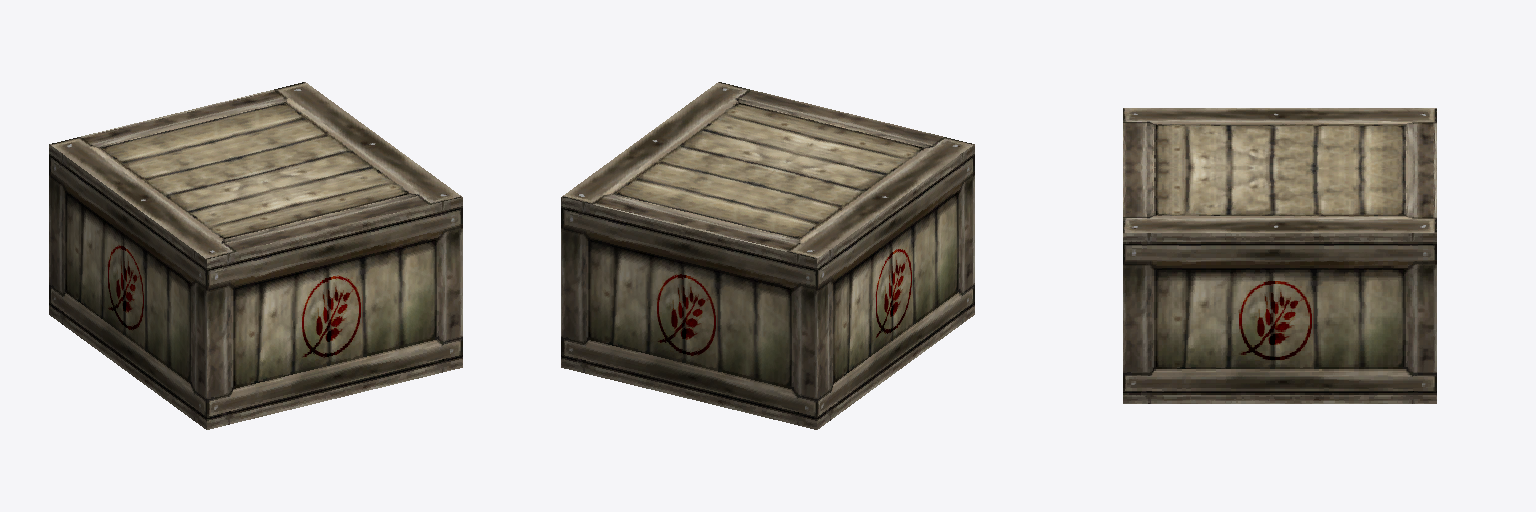
The picture shows the model from 3 angles: view 1: azimuth 30°, elevation 25°; view 2: azimuth 150°, elevation 25°; view 3: azimuth 270°, elevation 25°; orthographic projection.
Parts seen in each view (by area): view 1: graincrate01.m2; view 2: graincrate01.m2; view 3: graincrate01.m2.
Part boxes in pixels (left/top/right/bottom): graincrate01.m2: left=49, top=82, right=462, bottom=429; graincrate01.m2: left=561, top=82, right=974, bottom=429; graincrate01.m2: left=1123, top=108, right=1436, bottom=403.
Size of the model in its own units: 1.24 by 0.7924 by 1.32.
1 materials, 1 textured.